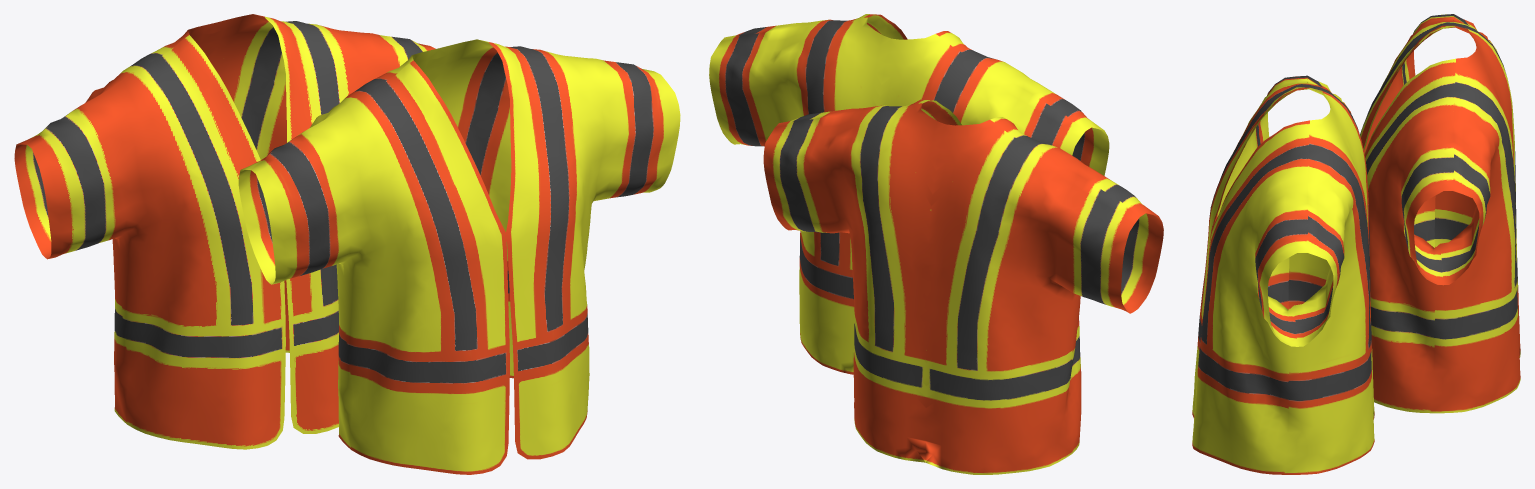
Rendered from Class 3 Vest Set.fbx.
3 views of the same model, side by side, from view 1: azimuth 30°, elevation 25°; view 2: azimuth 150°, elevation 25°; view 3: azimuth 270°, elevation 25° (orthographic). The views are drawn at different scales.
Visible parts, largest first — view 1: high-vis-vest-1-1; view 2: high-vis-vest-1-1; view 3: high-vis-vest-1-1.
Boxes of the visible parts, x1,y1,x2,y2 form: high-vis-vest-1-1: (14,14,680,474); high-vis-vest-1-1: (709,14,1163,474); high-vis-vest-1-1: (1192,14,1520,474).
Bounding box in the file's own units: 186 × 117 × 107.
